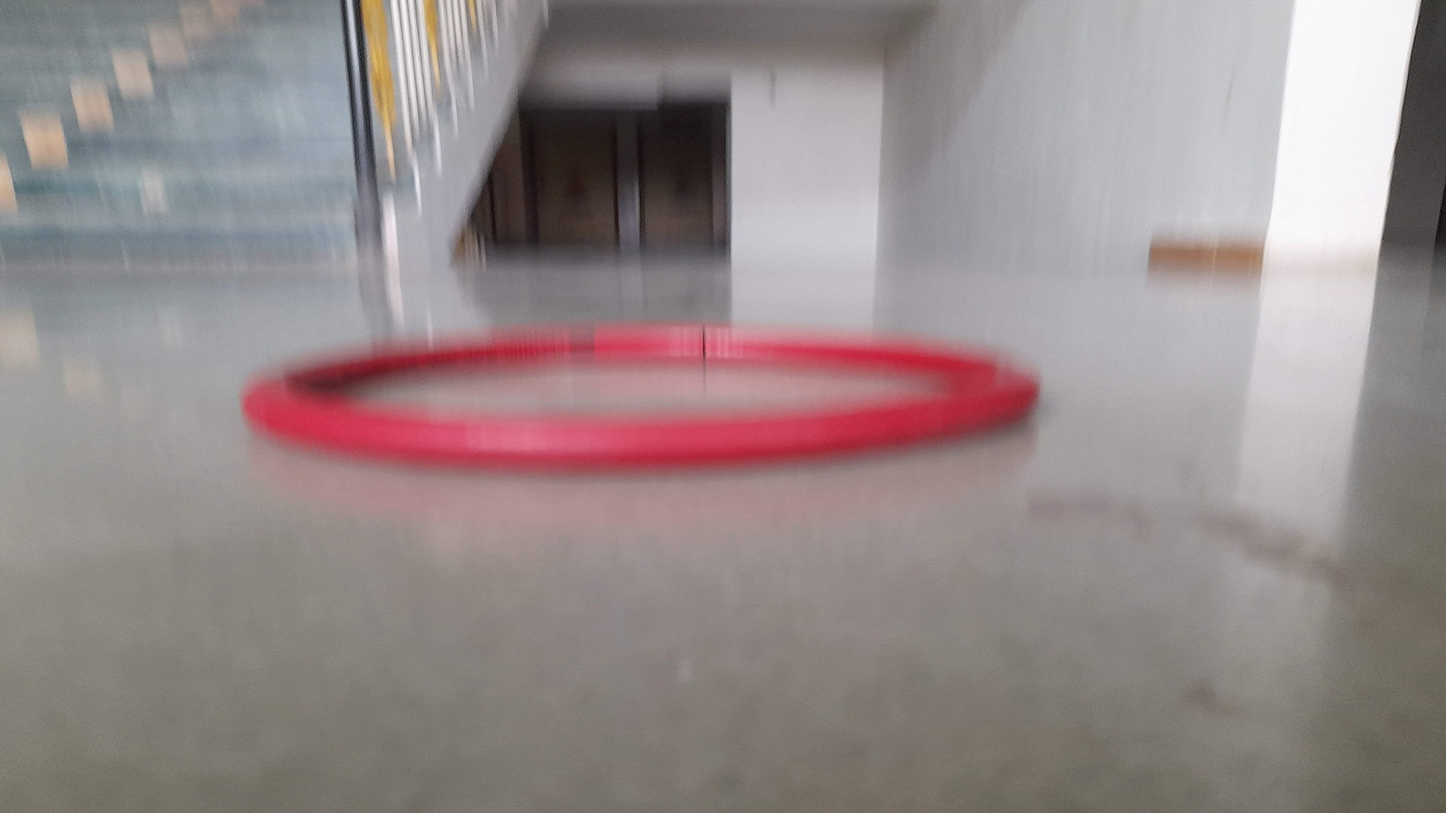Red ring: (248, 330, 1031, 465)
